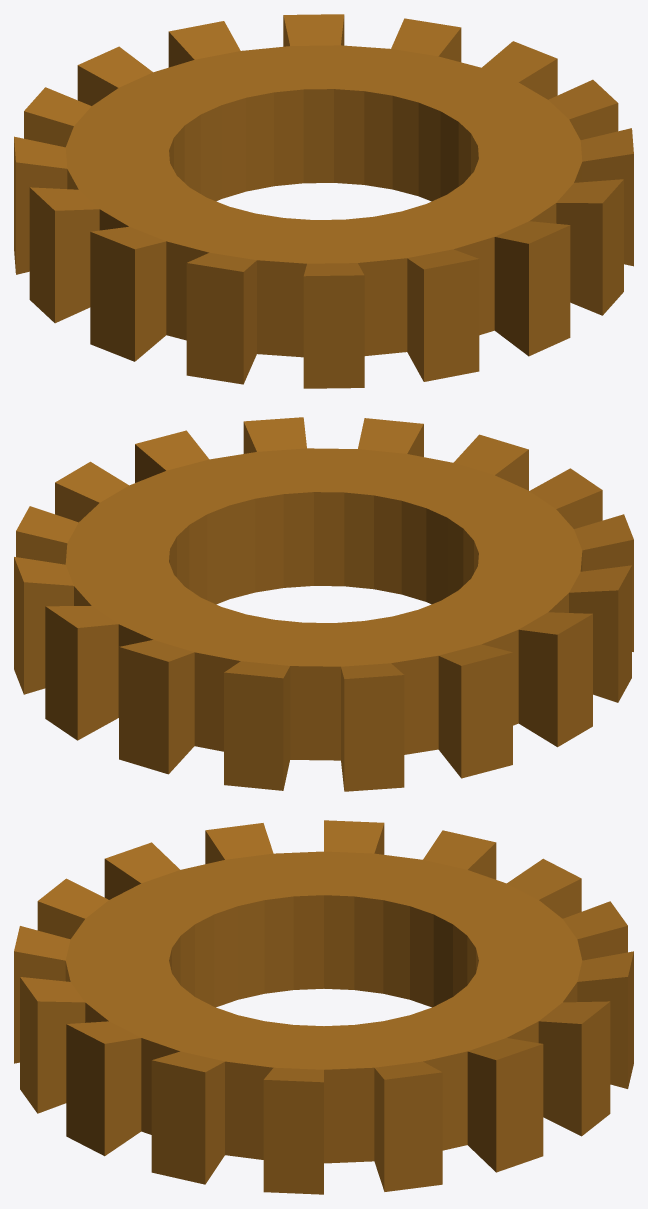
File: gear.glb
3 renders of one model, top to bottom at view 1: azimuth 30°, elevation 25°; view 2: azimuth 150°, elevation 25°; view 3: azimuth 270°, elevation 25°, orthographic.
Parts seen in each view (by area): view 1: Cylinder.002; view 2: Cylinder.002; view 3: Cylinder.002.
Part boxes in pixels (x1,y1,x2,y2): Cylinder.002: (14, 14, 633, 388); Cylinder.002: (14, 417, 633, 791); Cylinder.002: (14, 820, 633, 1194).
Bounding box in the file's own units: 0.6 × 0.12 × 0.6.
